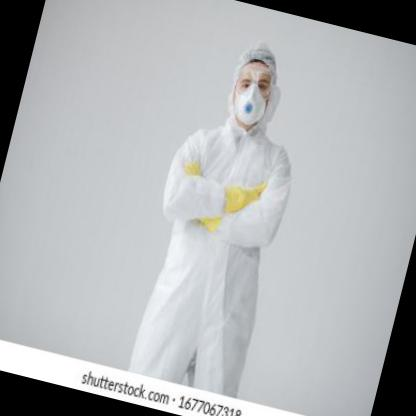Gloves: (223, 174, 268, 216), (185, 162, 204, 178)
